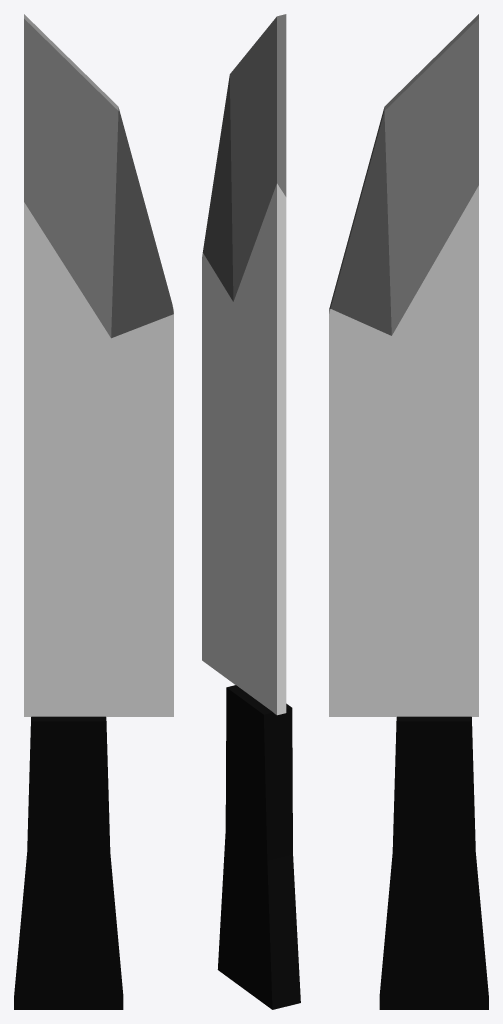
Rendered from MurderKnifeModel.fbx.
3 views of the same model, side by side, from view 1: azimuth 90°, elevation 25°; view 2: azimuth 210°, elevation 25°; view 3: azimuth 270°, elevation 25° (orthographic).
Parts seen in each view (by area): view 1: MurderKnifeModel; view 2: MurderKnifeModel; view 3: MurderKnifeModel.
Part boxes in pixels (x1,y1,x2,y2): MurderKnifeModel: [14, 14, 173, 1009]; MurderKnifeModel: [202, 14, 300, 1009]; MurderKnifeModel: [329, 14, 488, 1009].
Size of the model in its own units: 3.14 by 104 by 15.29.
